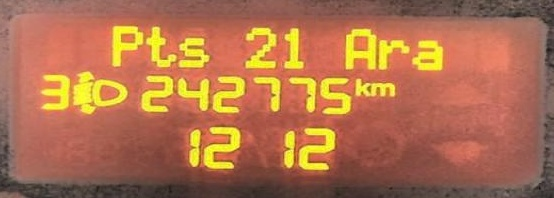1: (281, 22, 305, 70), (186, 124, 203, 172), (282, 127, 295, 172)
2: (206, 123, 243, 170), (300, 124, 334, 167), (246, 24, 276, 71), (140, 71, 172, 113), (211, 74, 243, 113)
3: (38, 68, 66, 111)
4: (175, 73, 208, 111)
5: (319, 73, 351, 115)
7: (250, 74, 281, 111), (288, 73, 316, 111)
X: (108, 22, 141, 70), (341, 28, 376, 71), (142, 26, 175, 70), (413, 37, 442, 71), (180, 34, 208, 67), (379, 38, 406, 68), (371, 80, 396, 98), (353, 77, 372, 98)
